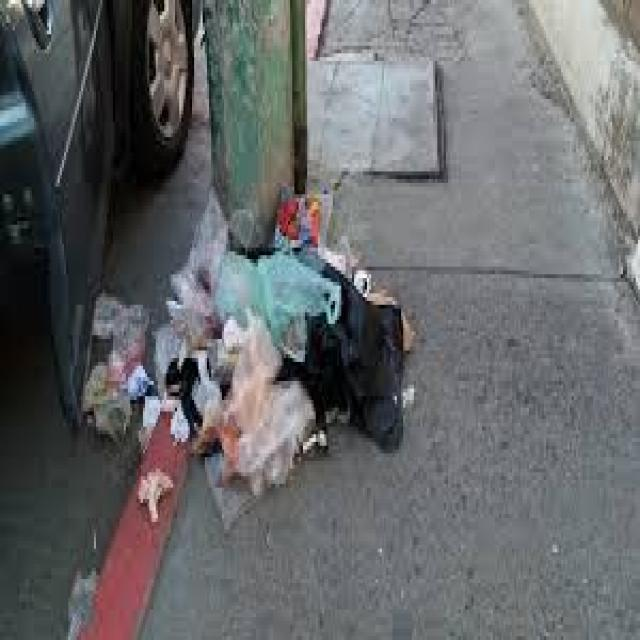garbage: (90, 216, 408, 518)
